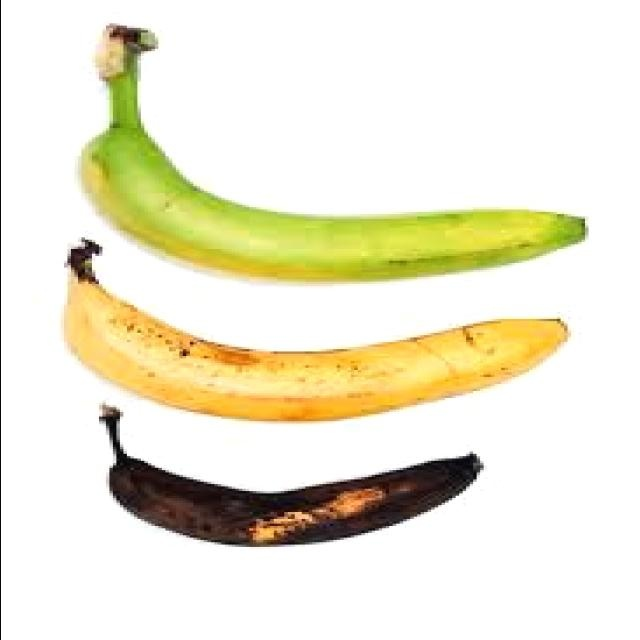agrume: (80, 80, 595, 288), (51, 279, 577, 425)
